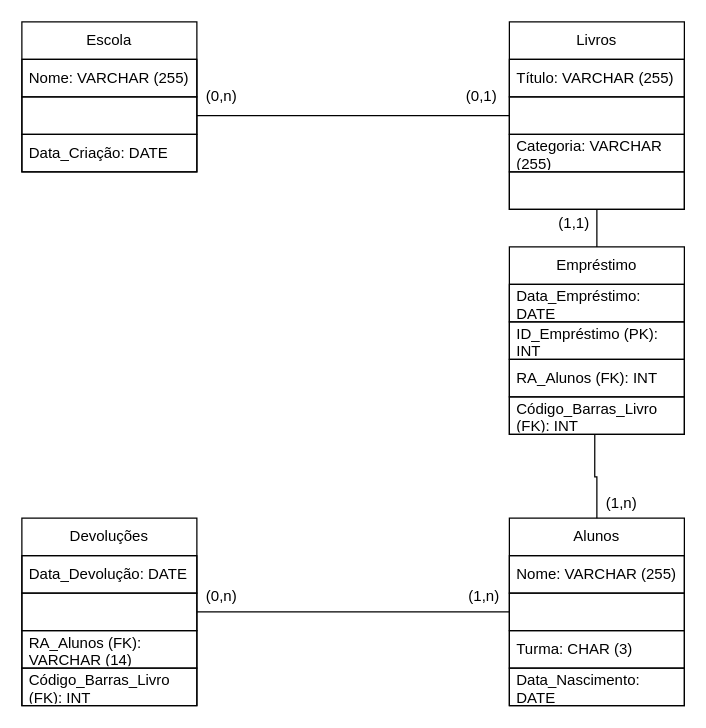
This 706x728 diagram has some shape labels left out. Here are the shapes that lost their labels. From the top down, the centre of each, then its label:
At (x=109, y=115): "Código INEP (PK): INT".
At (x=596, y=115): "Código_Livro (PK): INT".
At (x=596, y=190): "Autor: VARCHAR (255)".
At (x=109, y=611): "ID_Devoluções (PK): INT".
At (x=596, y=611): "Matrícula (PK): VARCHAR (14)".
